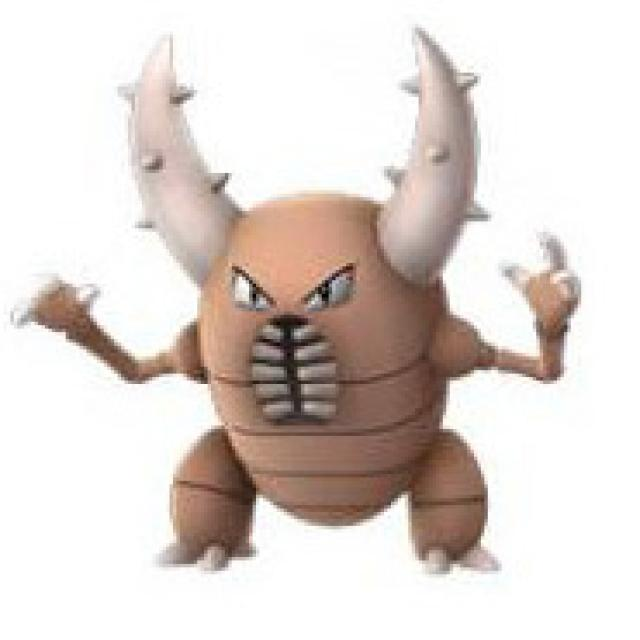Pinsir: (89, 23, 551, 590)
